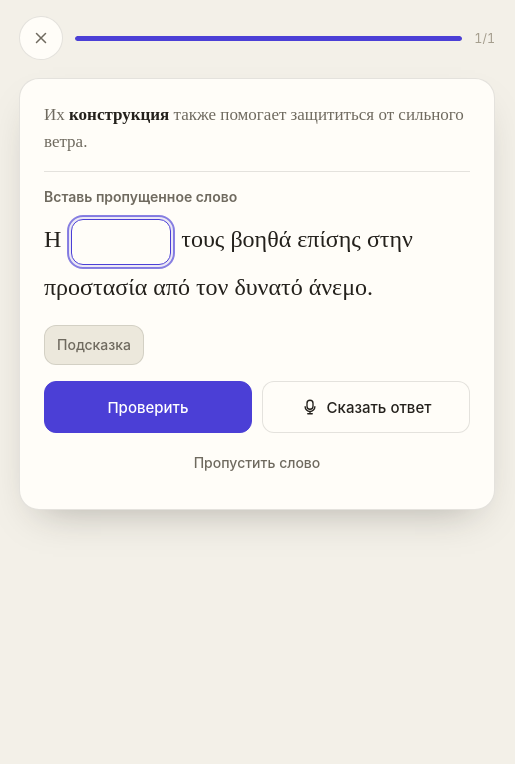
it: TrainingPracticeView › вердикт «Не совсем» показывает ответ ученика и ожидаемое слово
Type "что-то другое" into the field.
click(121, 242); type("что-то другое")  # box [71, 219, 171, 265]
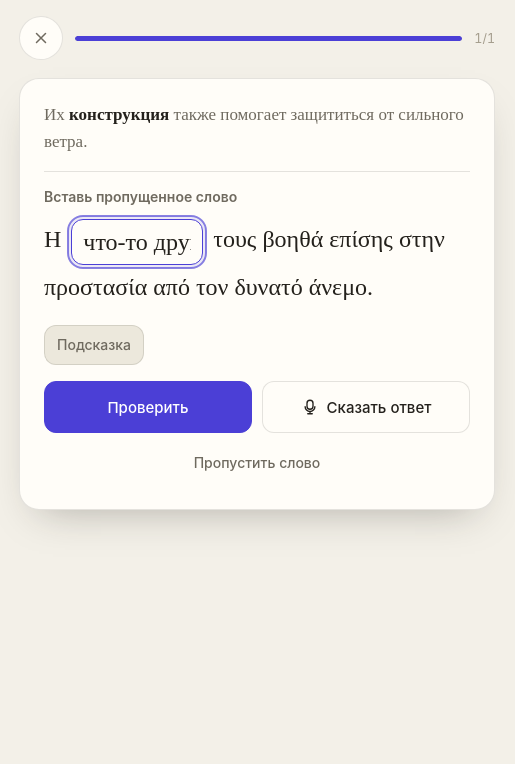
Click the button "Проверить".
click(148, 407)  # box [44, 381, 252, 433]
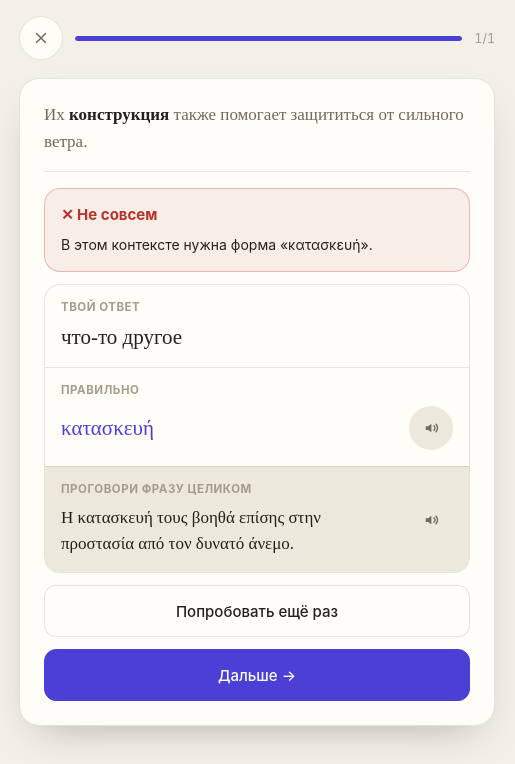
Result: the heading "✕ Не совсем" is shown at [61, 205, 157, 224]
Result: the text "что-то другое" is shown at [61, 325, 182, 349]
Result: the text "κατασκευή" is shown at [61, 414, 154, 442]
